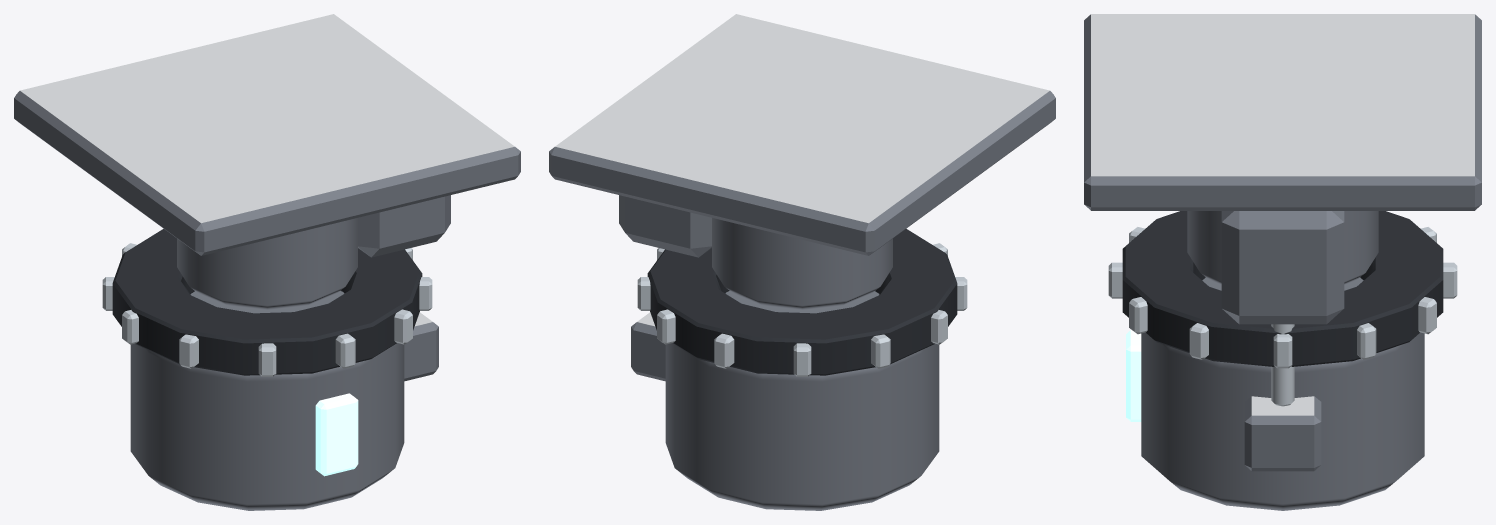
The model's file is R4X_IndependentSteering_LOD1.fbx.
3 renders of one model, left to right at view 1: azimuth 30°, elevation 25°; view 2: azimuth 150°, elevation 25°; view 3: azimuth 270°, elevation 25°, orthographic. The views are drawn at different scales.
Visible parts, largest first — view 1: R4X_IndependentSteering_LOD1; view 2: R4X_IndependentSteering_LOD1; view 3: R4X_IndependentSteering_LOD1.
Part boxes in pixels (x1,y1,x2,y2): R4X_IndependentSteering_LOD1: [14, 14, 520, 510]; R4X_IndependentSteering_LOD1: [549, 14, 1055, 510]; R4X_IndependentSteering_LOD1: [1084, 14, 1481, 510].
Bounding box in the file's own units: 0.52 × 0.52 × 0.52.
